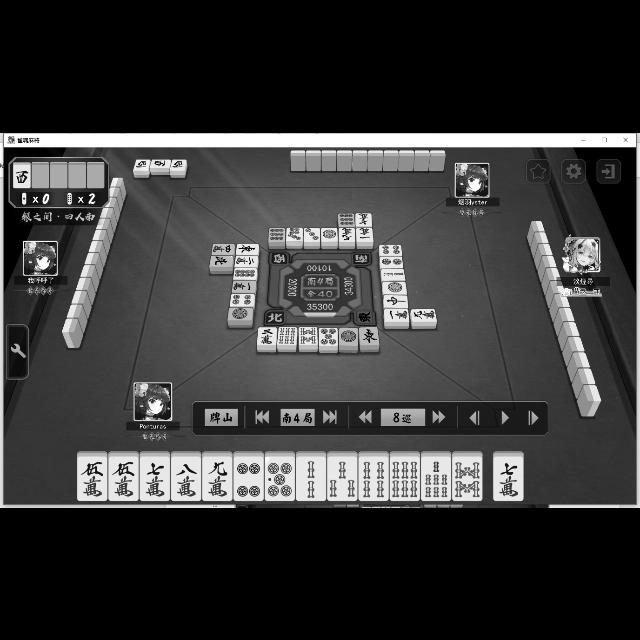1m: (232, 280, 256, 294), (383, 308, 409, 320), (232, 279, 256, 291), (356, 228, 372, 240)
1p: (340, 326, 358, 346), (228, 306, 252, 320), (382, 281, 406, 293), (320, 227, 338, 241)
2m: (235, 254, 258, 266)
2p: (378, 256, 404, 266)
2s: (296, 455, 326, 501), (380, 268, 406, 280)
3m: (258, 326, 276, 344)
3p: (303, 226, 321, 240)
3s: (327, 456, 357, 500)
4m: (211, 243, 235, 255)
4p: (233, 457, 263, 501), (230, 292, 254, 306), (378, 243, 402, 254)
4s: (359, 456, 387, 500)
5m: (108, 456, 138, 500), (78, 456, 108, 499)
5p: (263, 456, 295, 500), (318, 327, 338, 345)
6s: (390, 456, 420, 500), (279, 326, 297, 344)
7m: (139, 457, 171, 501), (494, 456, 524, 500), (356, 212, 372, 226)
7p: (286, 227, 304, 241)
7s: (421, 456, 451, 500)
8m: (170, 457, 202, 501)
8p: (233, 266, 257, 280)
8s: (453, 456, 483, 500), (298, 326, 318, 344)
9m: (202, 456, 232, 500), (410, 308, 436, 320), (338, 226, 356, 240)
9p: (267, 226, 285, 242), (337, 212, 355, 226)
chun: (382, 295, 408, 309)
pe: (209, 254, 233, 266)
sha: (13, 163, 31, 187), (170, 158, 186, 170), (134, 158, 148, 170), (150, 158, 170, 166)
tou: (359, 328, 379, 344), (236, 242, 258, 254)
